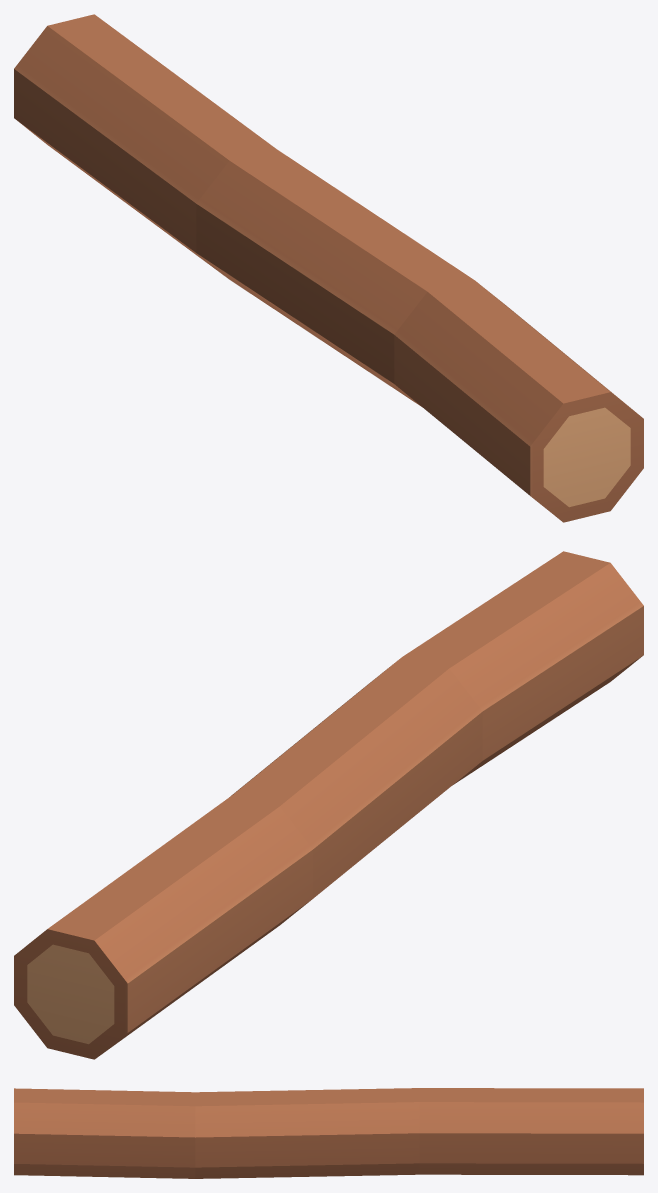
The model's file is tree trunk 2.fbx.
3 renders of one model, top to bottom at view 1: azimuth 30°, elevation 25°; view 2: azimuth 150°, elevation 25°; view 3: azimuth 270°, elevation 25°, orthographic. The views are drawn at different scales.
Parts seen in each view (by area): view 1: tree trunk 2; view 2: tree trunk 2; view 3: tree trunk 2.
Part boxes in pixels (x1,y1,x2,y2): tree trunk 2: (14,14,643,522); tree trunk 2: (14,551,643,1059); tree trunk 2: (14,1088,643,1178).
Bounding box in the file's own units: 43.56 × 38.72 × 304.
